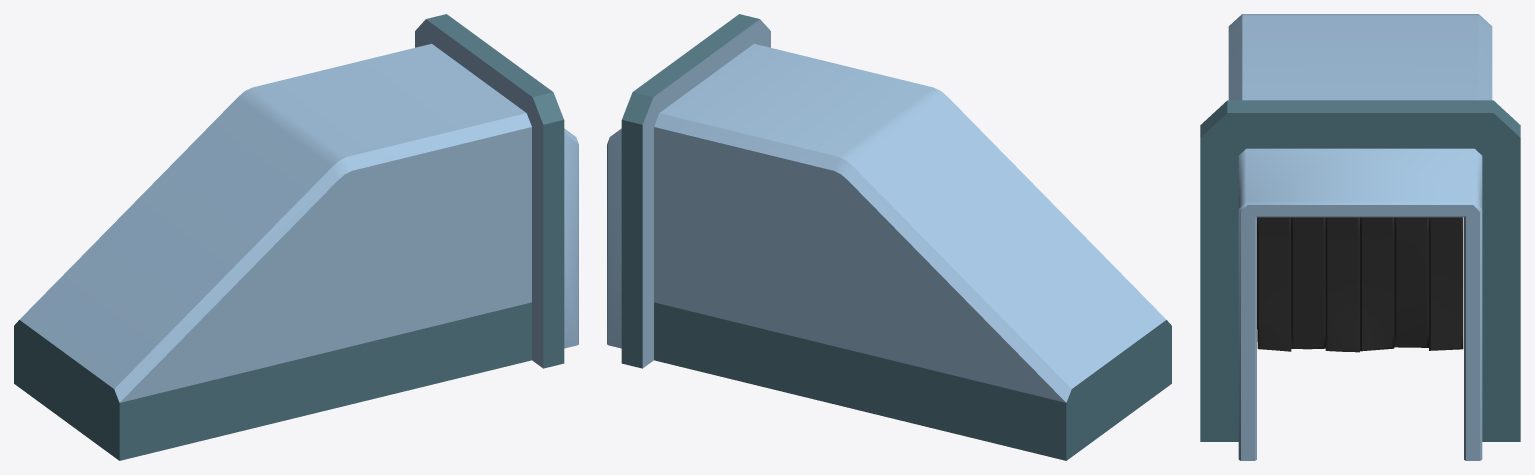
File: airport-baggage-carousel-4.glb
3 views of the same model, side by side, from view 1: azimuth 30°, elevation 25°; view 2: azimuth 150°, elevation 25°; view 3: azimuth 270°, elevation 25° (orthographic). The views are drawn at different scales.
Visible parts, largest first — view 1: 12.3.BaggageClaimBand_AIRPORT_0; view 2: 12.3.BaggageClaimBand_AIRPORT_0; view 3: 12.3.BaggageClaimBand_AIRPORT_0.
Part boxes in pixels (bbox=[...]): 12.3.BaggageClaimBand_AIRPORT_0: bbox=[14, 14, 578, 460]; 12.3.BaggageClaimBand_AIRPORT_0: bbox=[607, 14, 1171, 460]; 12.3.BaggageClaimBand_AIRPORT_0: bbox=[1200, 14, 1520, 460].
Size of the model in its own units: 5.55 by 3.01 by 2.66.
Materials: 1 (1 with a texture image).
